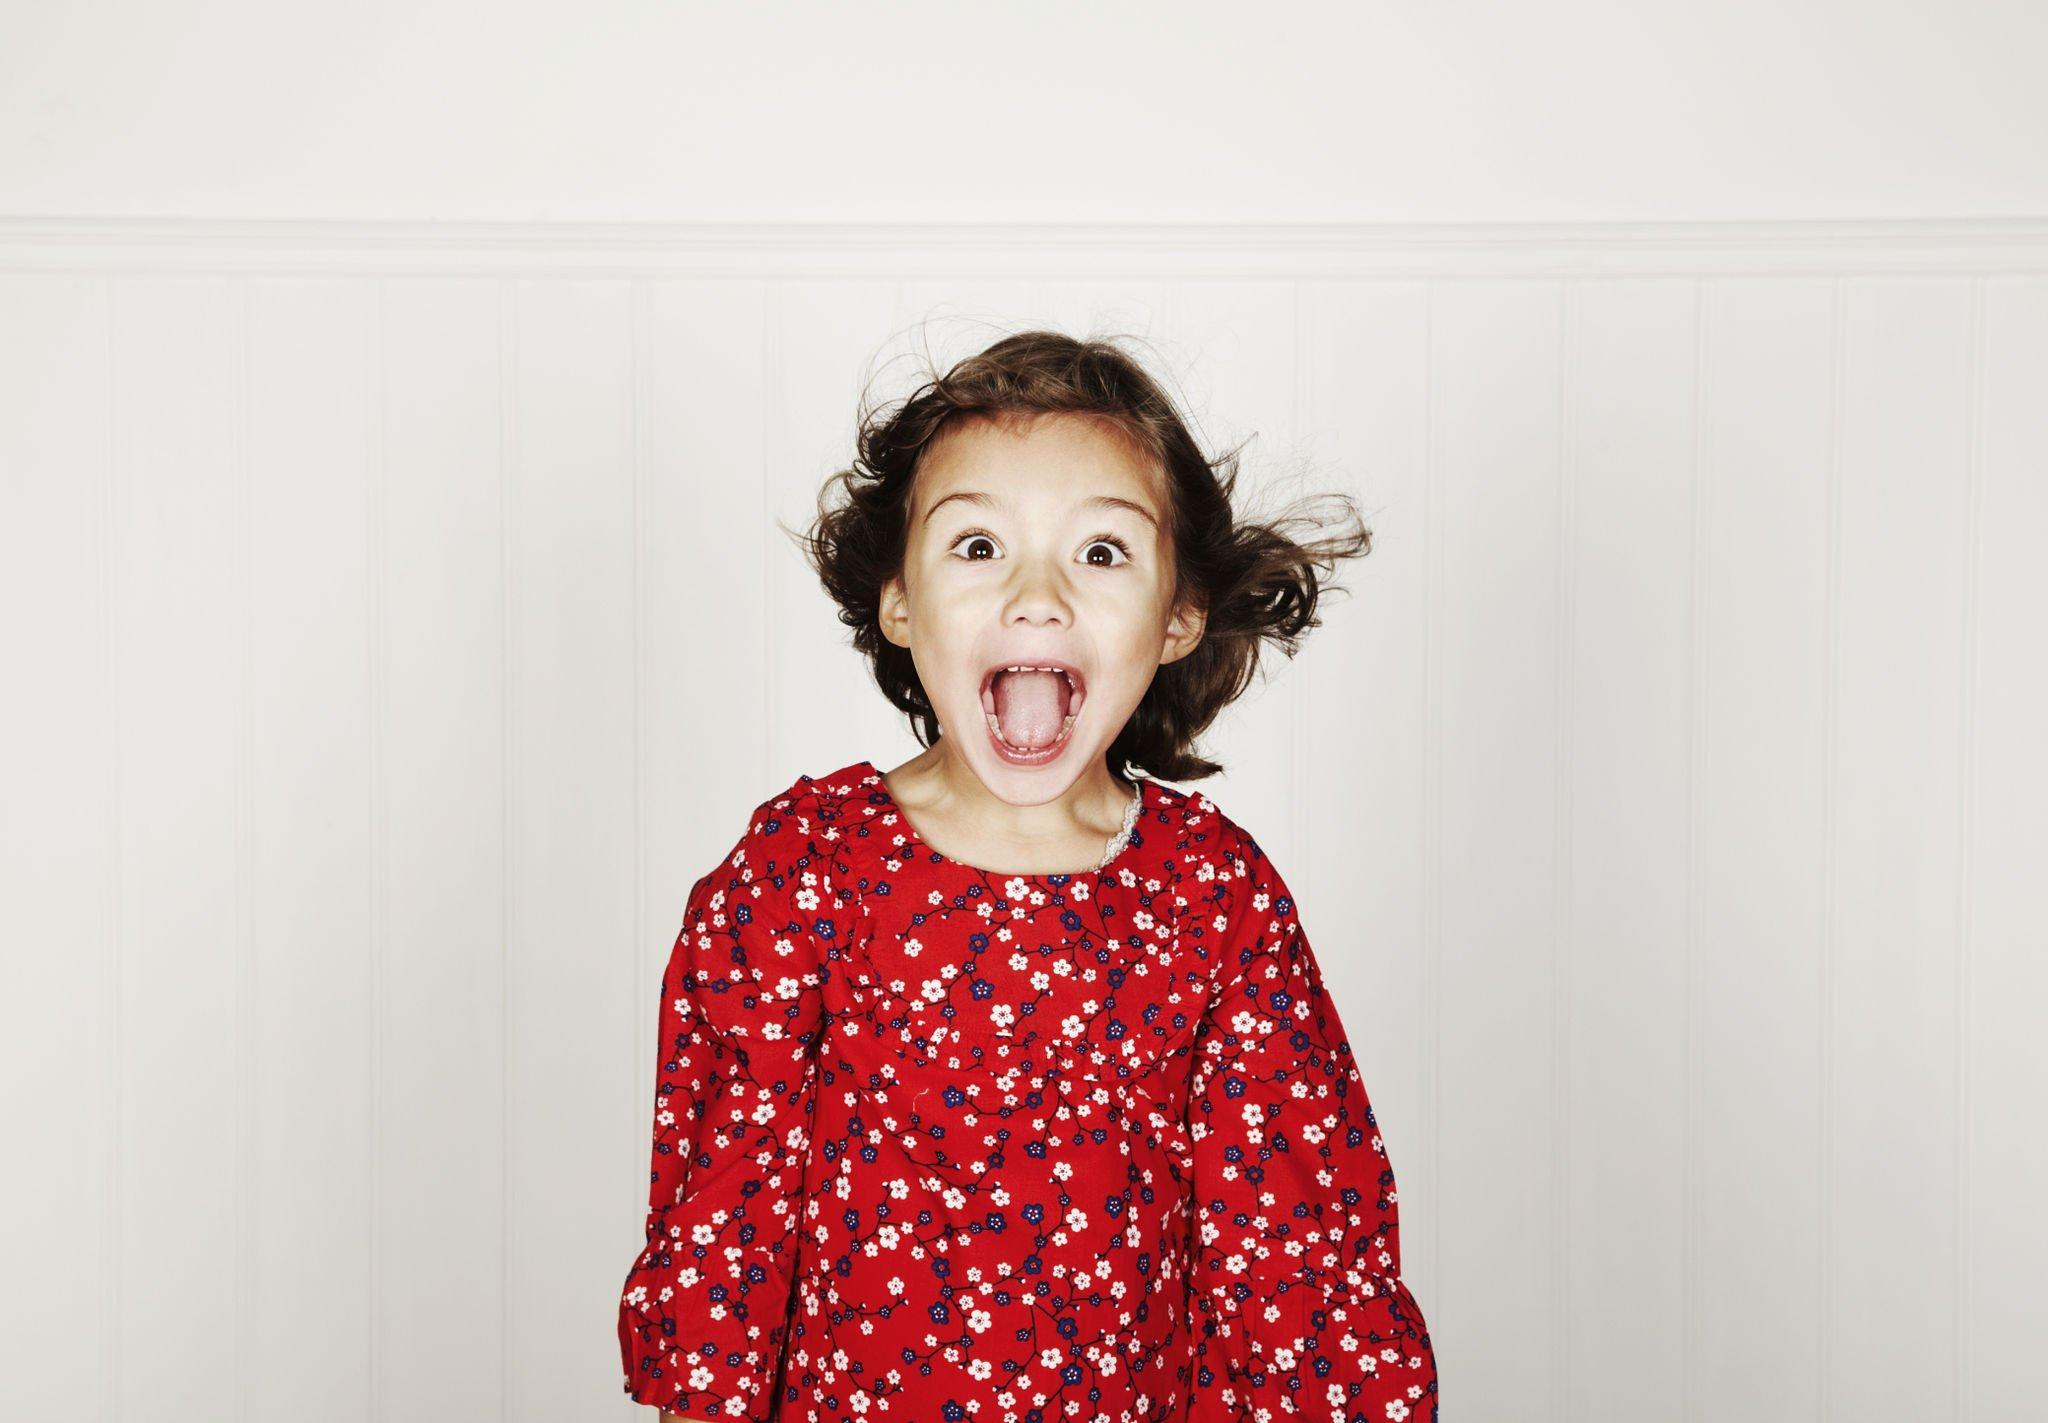Healthy: (856, 402, 1183, 830)
